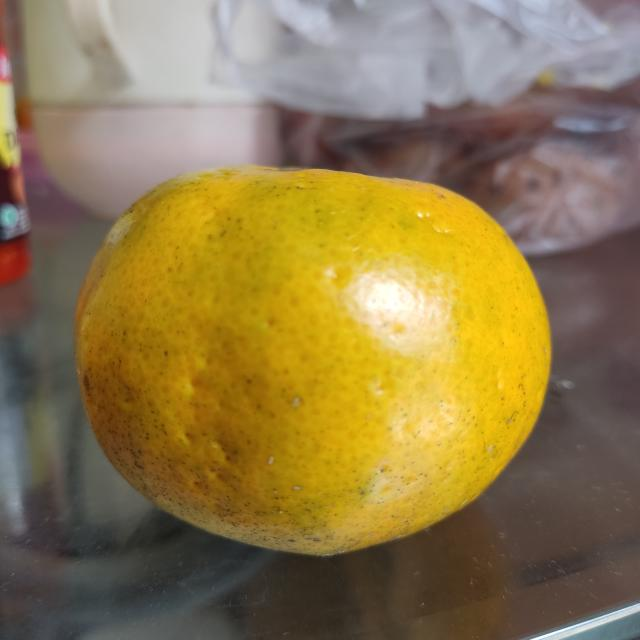orange: (77, 164, 553, 556)
